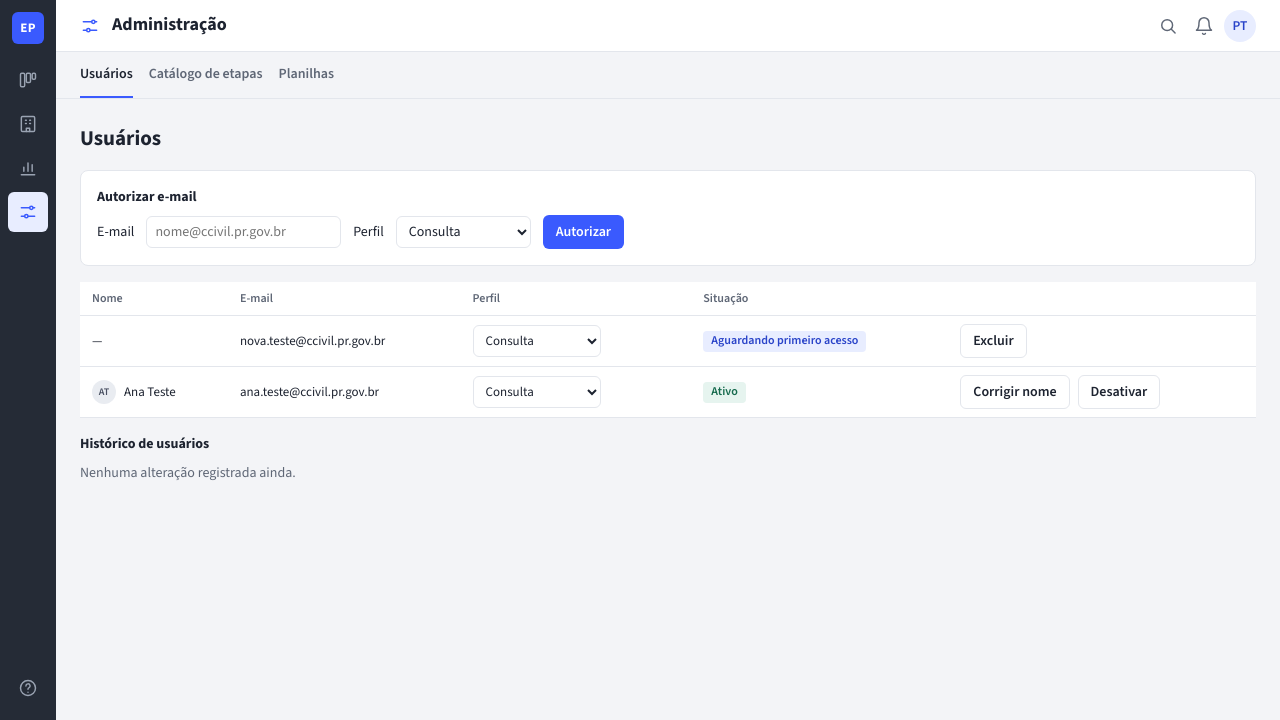
Scenario: Salvar com falha (sem conexão) mantém a escolha, mostra a mensagem na linha e os botões
Expected: the table is shown, [80,282,1256,418]
Select "Administrador" in the dropdown named "Perfil de ana.teste@ccivil.pr.gov.br" at (537, 392), box [473,376,601,408]
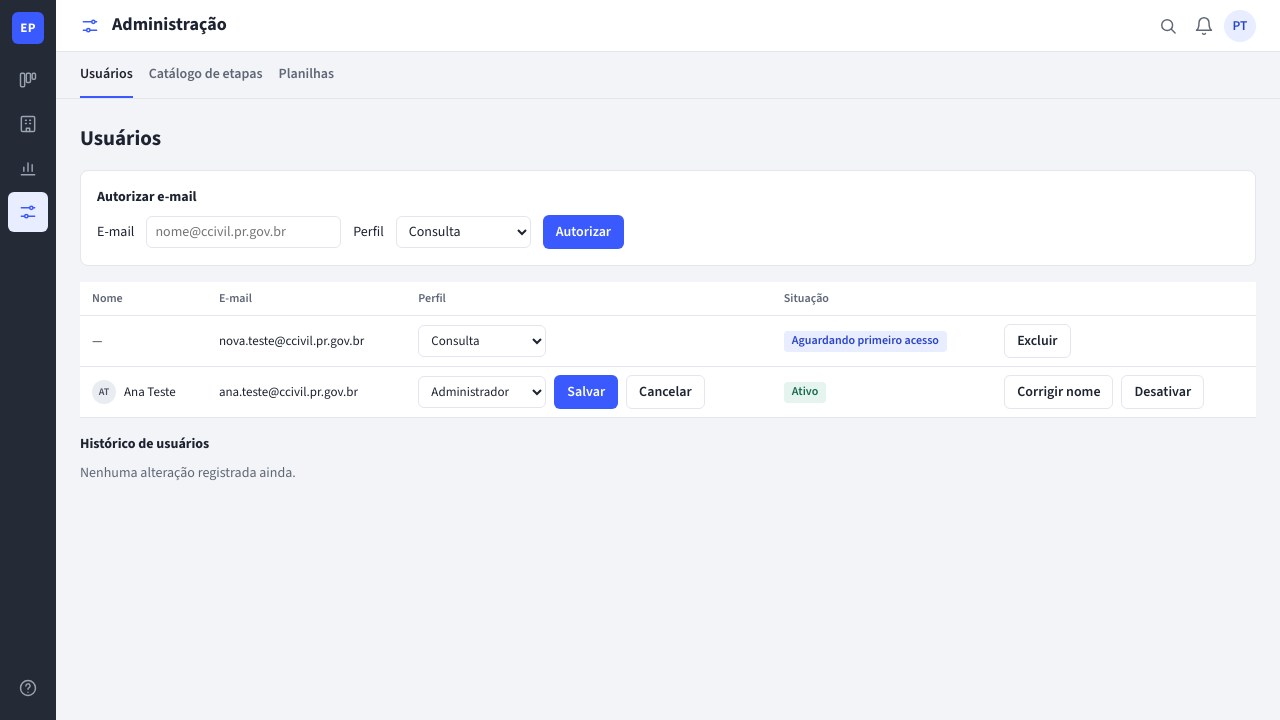
Click the button "Salvar" at (586, 392), box [554,375,618,409]
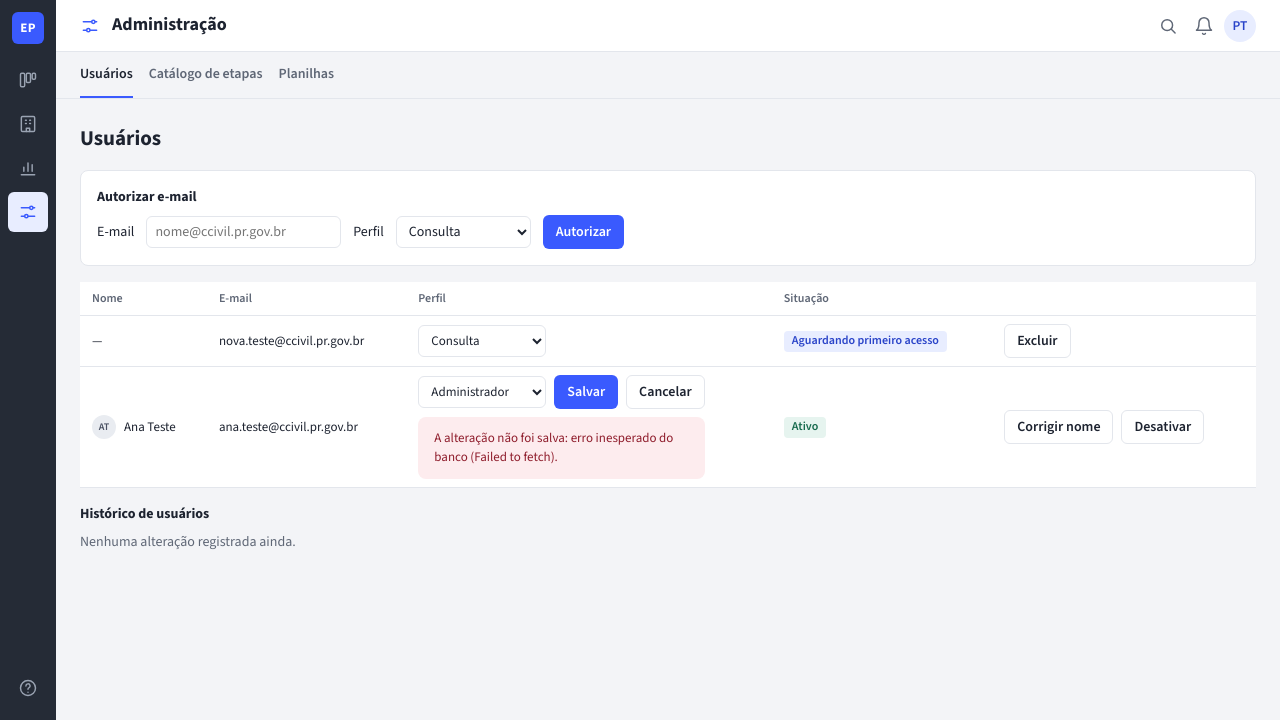
Expected: the text "A alteração não foi salva: erro inesperado do banco (Failed to fetch)." is shown, [418,417,705,479]
